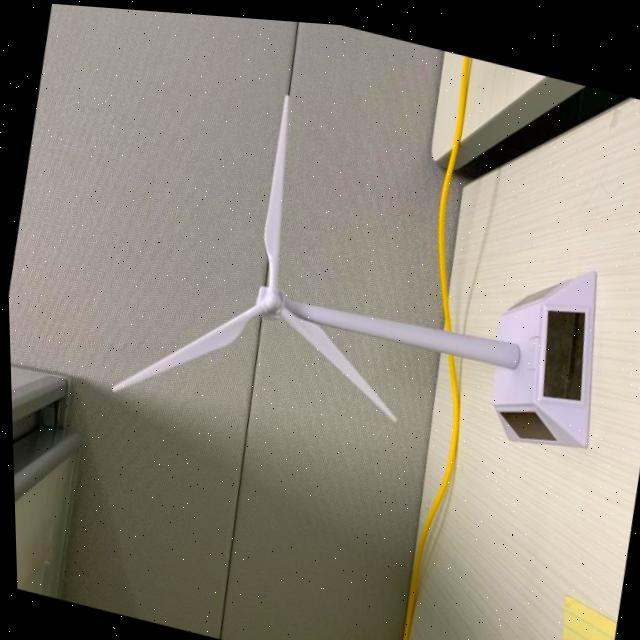solid-blade: (109, 299, 262, 389), (277, 302, 393, 413), (262, 90, 289, 283)
